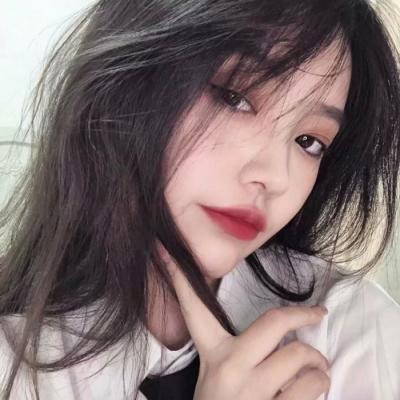people: (47, 1, 376, 400)
